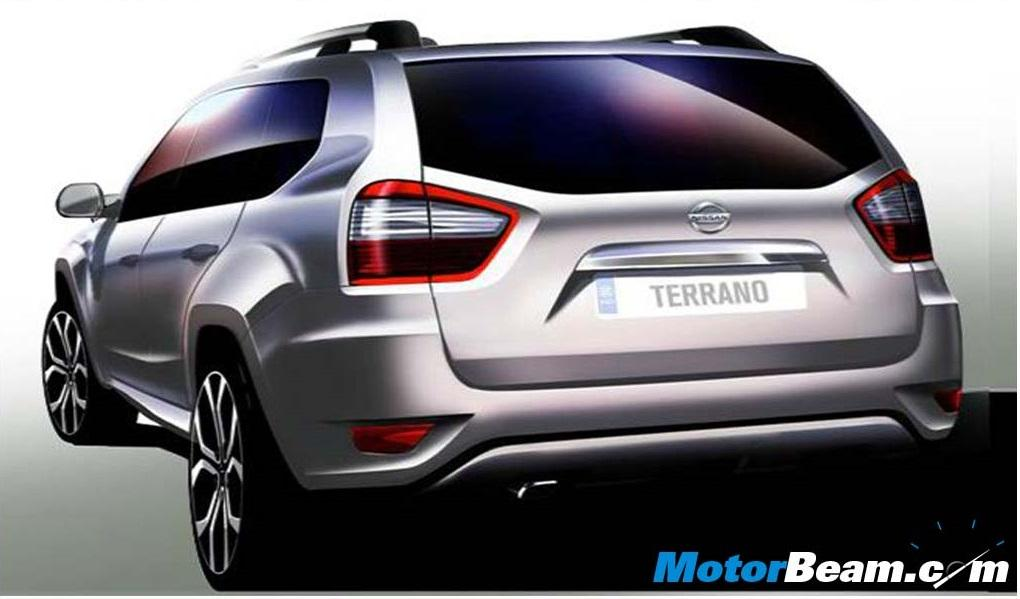License-Plate: (635, 261, 785, 323)
